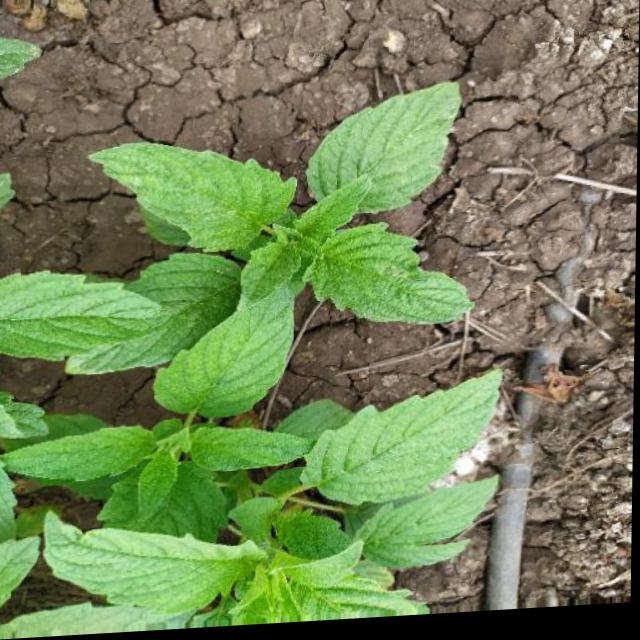crop: (0, 376, 532, 621), (90, 108, 496, 427)
